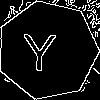Y: (22, 25, 57, 71)
